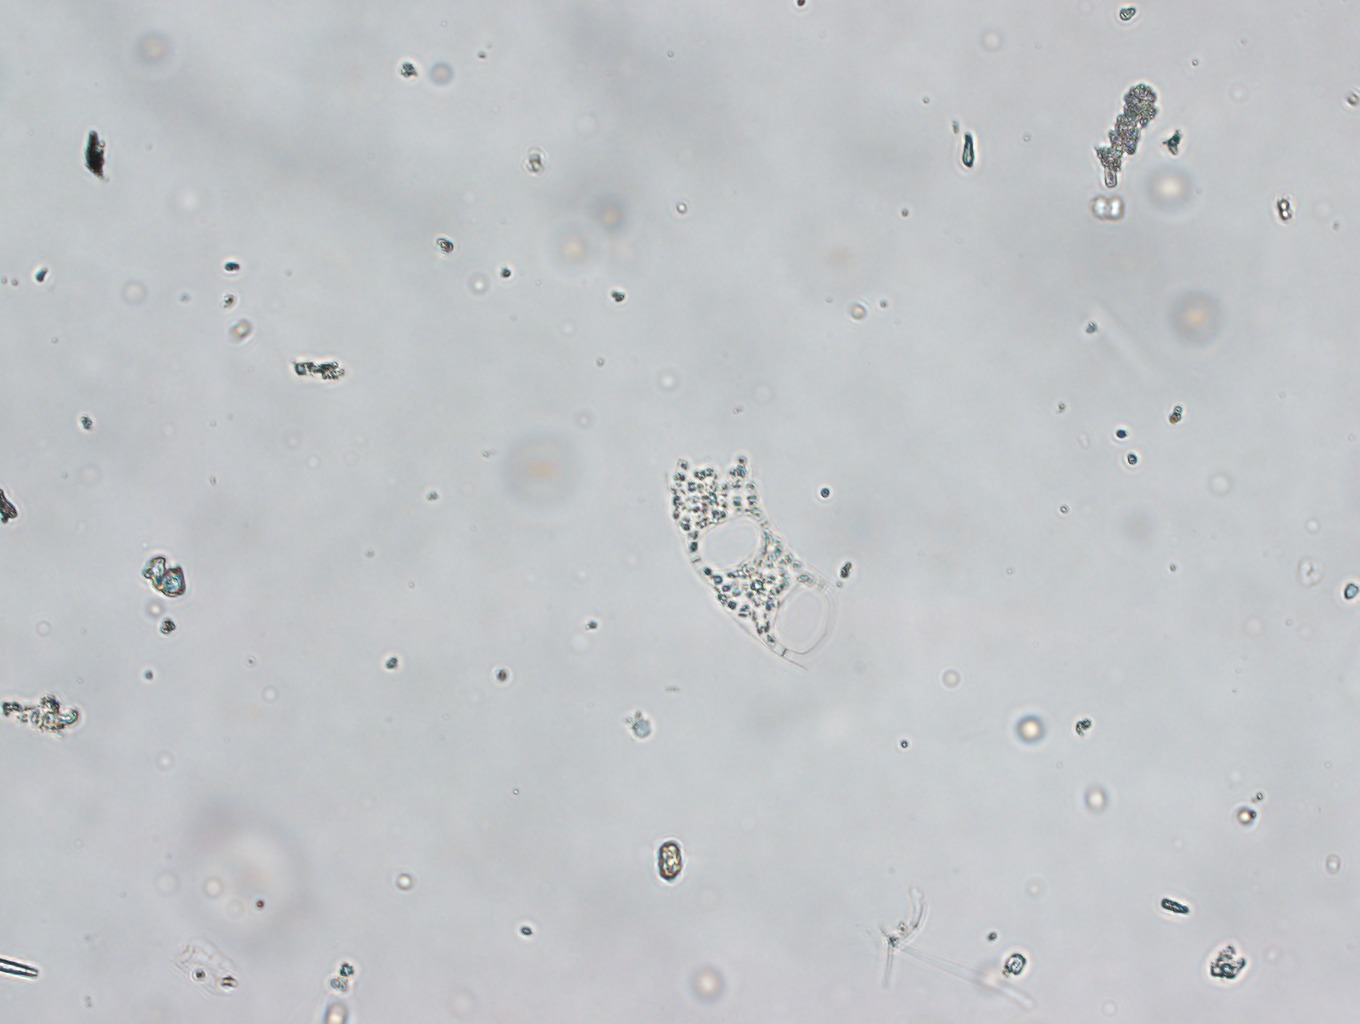eucampia: (670, 445, 857, 673)
